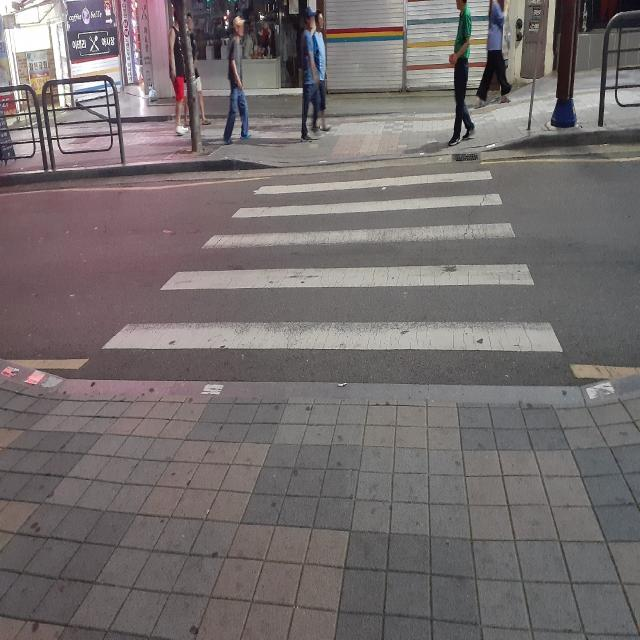횡단보도: (99, 167, 567, 357)
